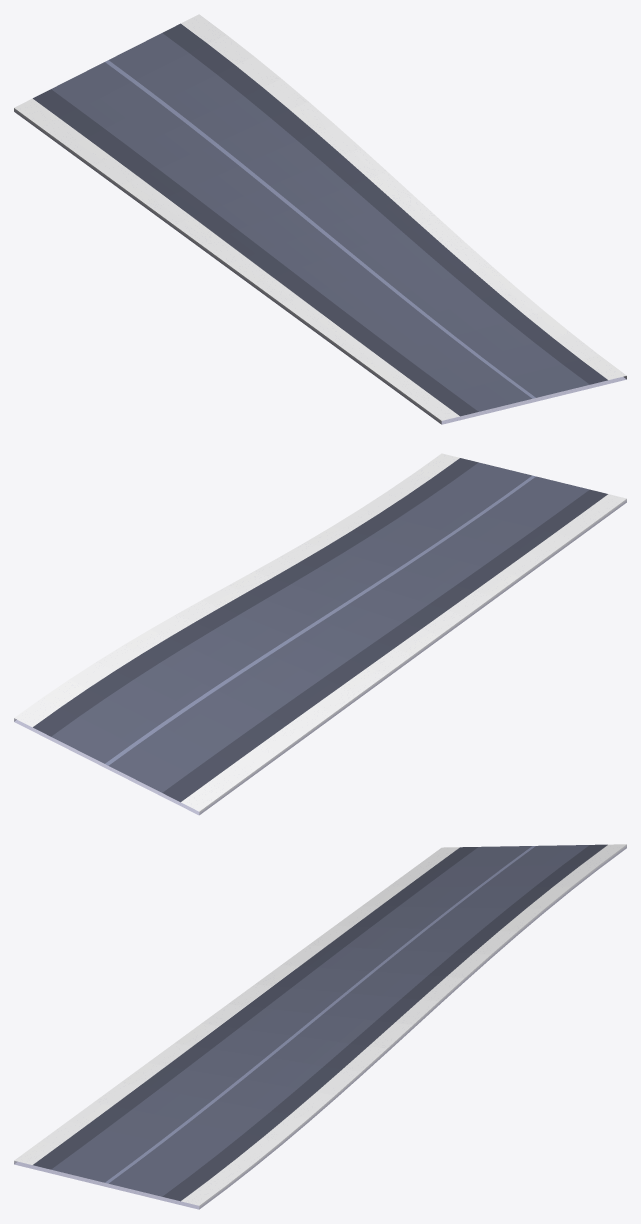
File: road-Straight-Flat-HalfBankedLeft-Even-Center-Size4.glb
The picture shows the model from 3 angles, top to bottom: view 1: azimuth 30°, elevation 25°; view 2: azimuth 150°, elevation 25°; view 3: azimuth 330°, elevation 25°; orthographic projection.
Parts seen in each view (by area): view 1: road-Straight-Flat-HalfBankedLeft-Even-Center-Size4; view 2: road-Straight-Flat-HalfBankedLeft-Even-Center-Size4; view 3: road-Straight-Flat-HalfBankedLeft-Even-Center-Size4.
Boxes of the visible parts, x1,y1,x2,y2 form: road-Straight-Flat-HalfBankedLeft-Even-Center-Size4: (14, 14, 626, 424); road-Straight-Flat-HalfBankedLeft-Even-Center-Size4: (14, 453, 626, 815); road-Straight-Flat-HalfBankedLeft-Even-Center-Size4: (14, 844, 626, 1209).
Size of the model in its own units: 1 by 0.27 by 4.
1 material, 1 textured.
